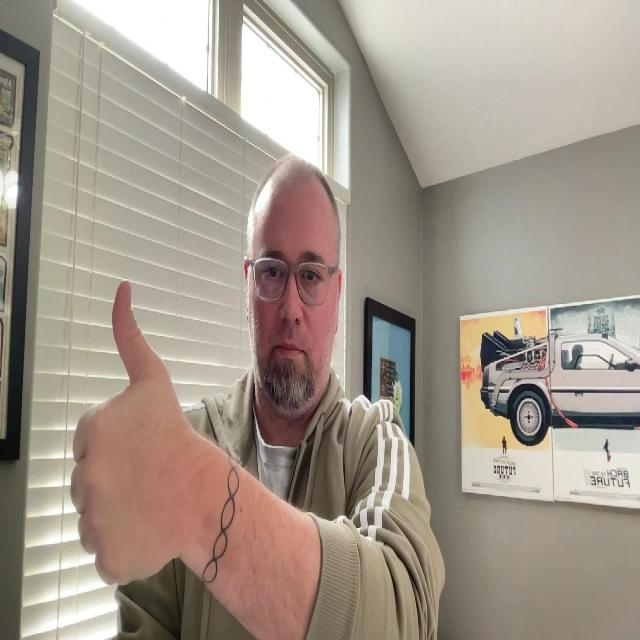face: (248, 194, 340, 418)
